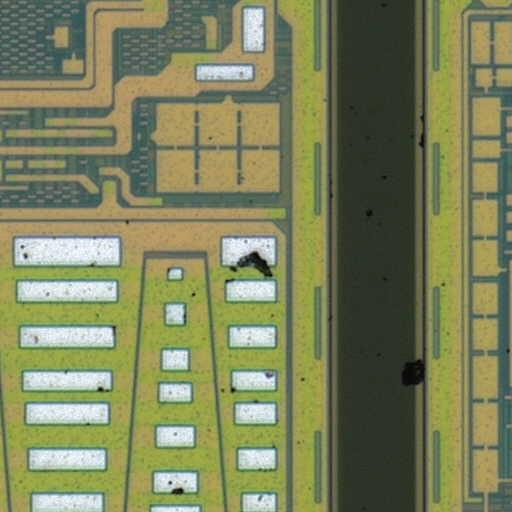PO CONTAMINATION: (10, 97, 512, 499)
